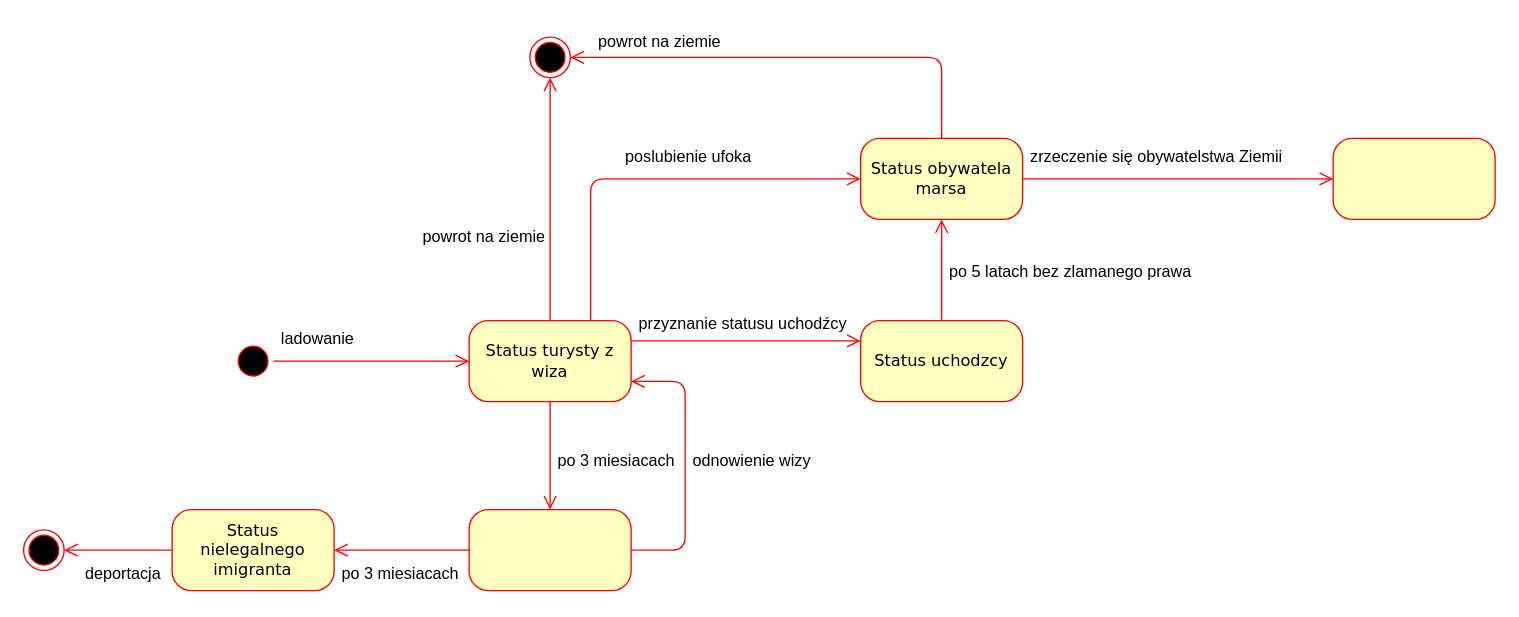
The diagram is 1519 pixels wide and 617 high, and some of its shapes have lost their labels. Each missing label, with the centre of its shape:
"Status obywatela marsa bez obywatelstwa Ziemii" belongs at point (1413, 178).
"Status turysty bez wizy" belongs at point (549, 549).
